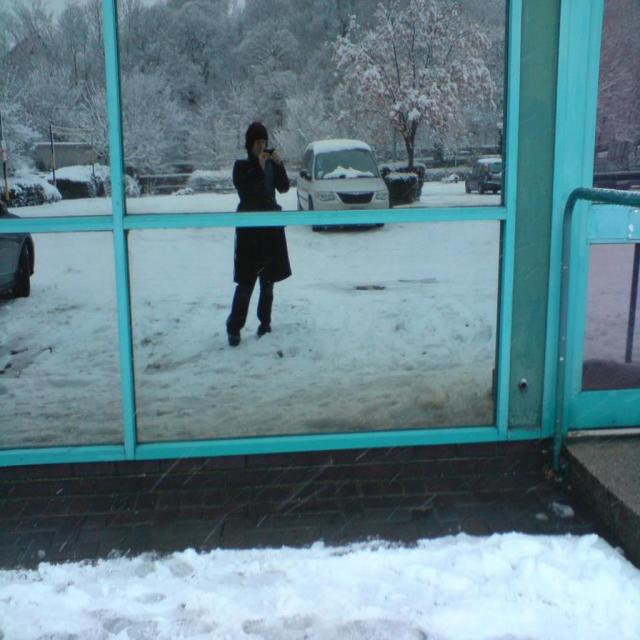other: (297, 140, 386, 230), (0, 200, 32, 292), (463, 156, 501, 192)
